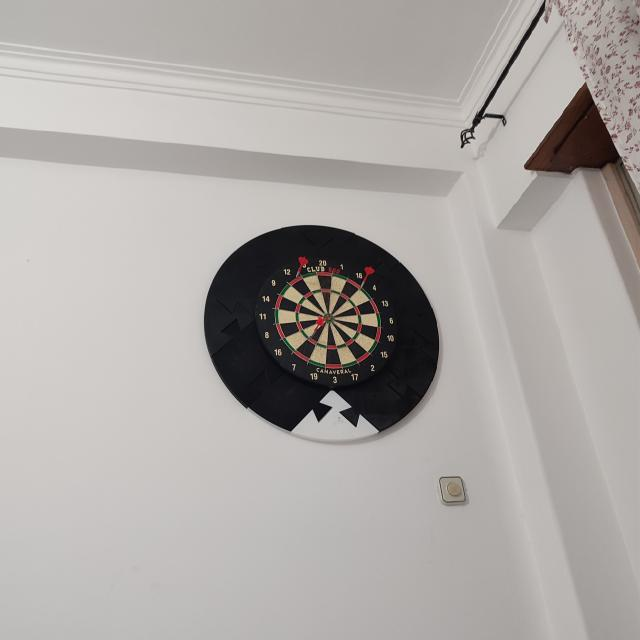dart: (310, 315, 326, 339), (359, 266, 374, 291), (310, 316, 326, 339), (360, 266, 374, 291), (296, 256, 308, 280), (296, 256, 308, 280)
